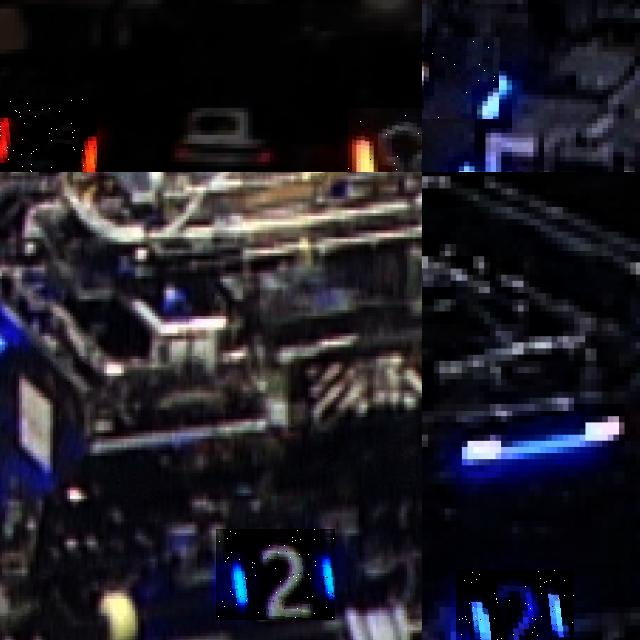B1: (422, 37, 501, 118)
B2: (216, 529, 335, 620), (456, 569, 574, 640)
Rs: (0, 99, 96, 172), (347, 108, 422, 172)
